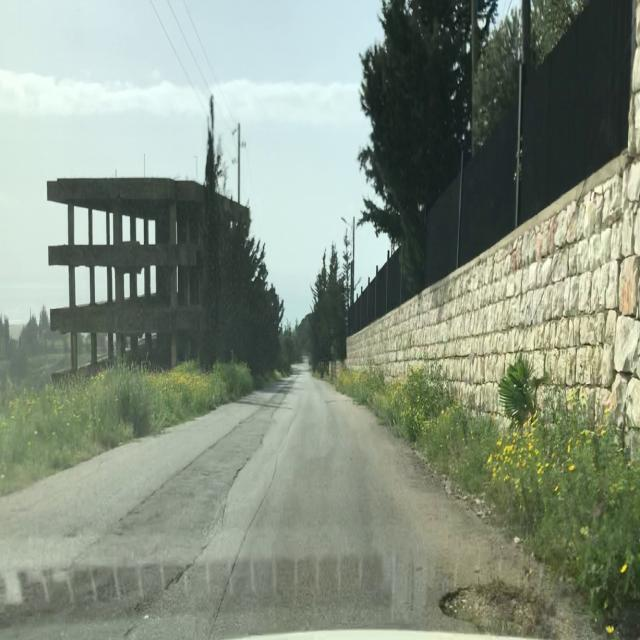Pothole: (435, 574, 585, 640)
